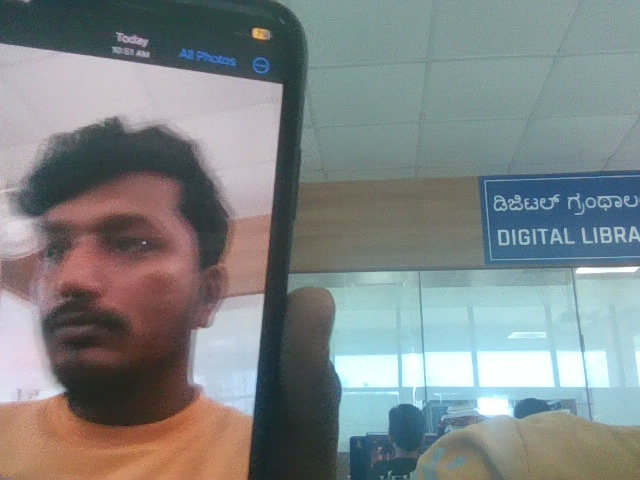fake: (4, 89, 232, 412)
